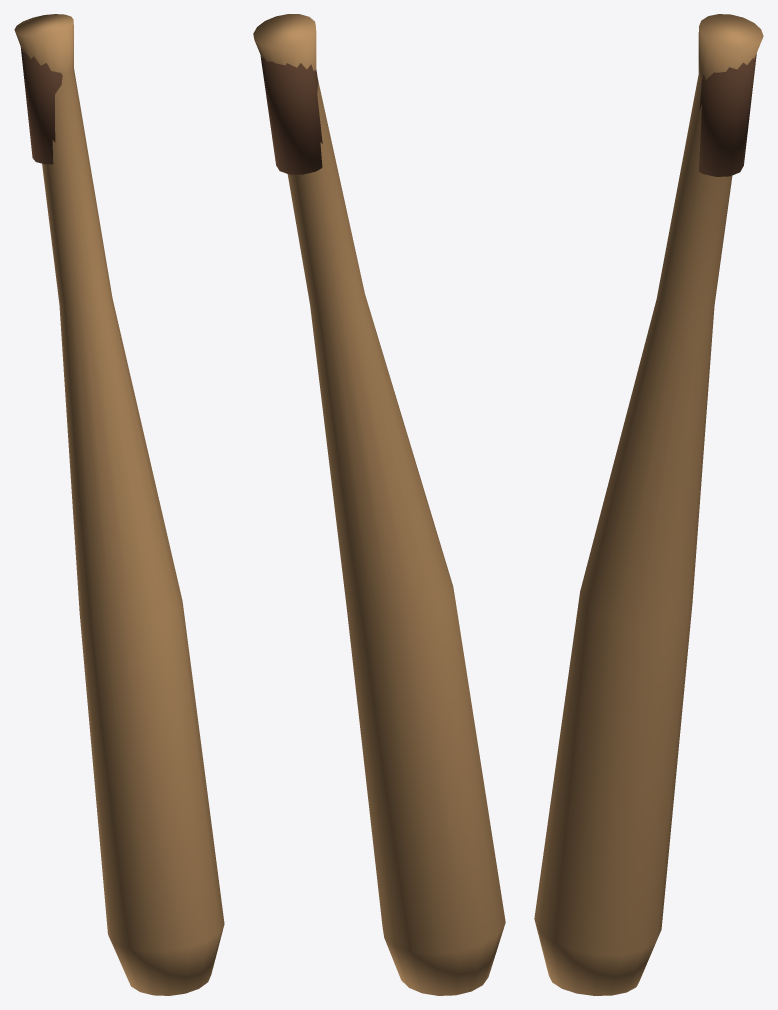
The model's file is Baseball_Bat_Static.glb.
3 views of the same model, side by side, from view 1: azimuth 90°, elevation 25°; view 2: azimuth 150°, elevation 25°; view 3: azimuth 270°, elevation 25° (orthographic). The views are drawn at different scales.
Visible parts, largest first — view 1: Baseball_Bat_Static; view 2: Baseball_Bat_Static; view 3: Baseball_Bat_Static.
Part boxes in pixels (x1,y1,x2,y2): Baseball_Bat_Static: [14, 14, 224, 995]; Baseball_Bat_Static: [253, 14, 505, 995]; Baseball_Bat_Static: [534, 14, 763, 995].
Bounding box in the file's own units: 0.1138 × 0.6052 × 0.1256.
